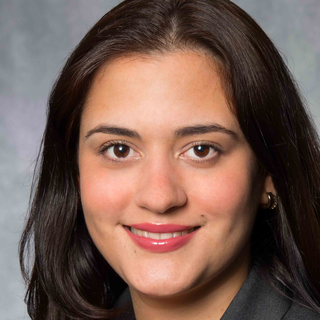eye: (173, 139, 228, 165), (96, 138, 143, 164)
